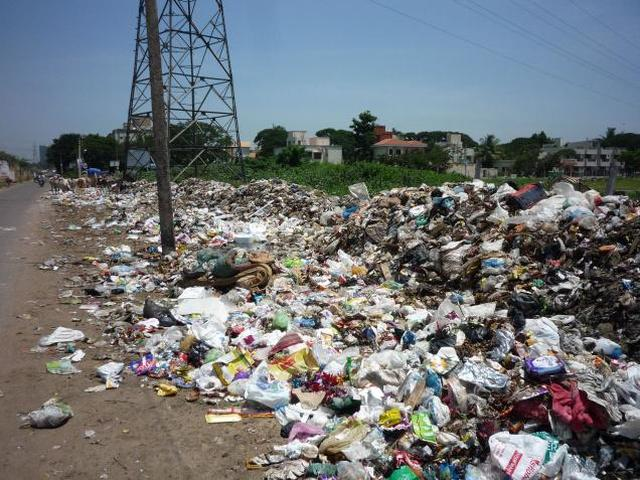garbage: (191, 213, 630, 446)
